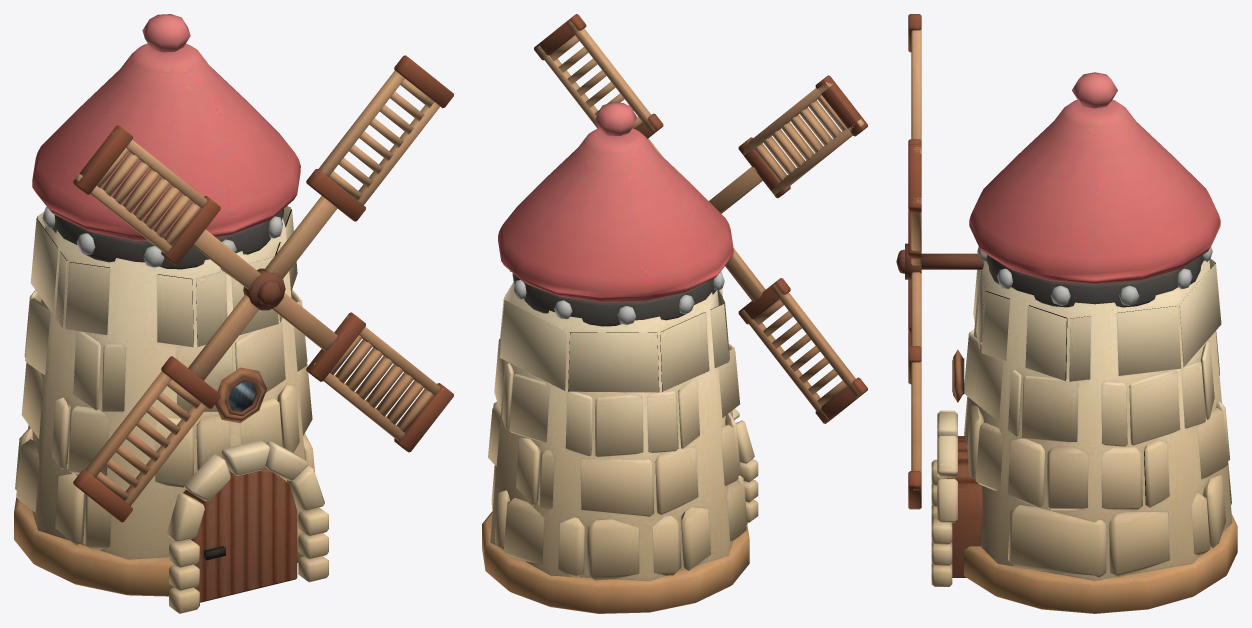
File: mill_4_mid.glb
3 views of the same model, side by side, from view 1: azimuth 30°, elevation 25°; view 2: azimuth 150°, elevation 25°; view 3: azimuth 270°, elevation 25° (orthographic). The views are drawn at different scales.
Parts seen in each view (by area): view 1: mill_4, sails; view 2: mill_4, sails; view 3: mill_4, sails.
Part boxes in pixels (<box>): mill_4: <box>14,14,328,613</box>; sails: <box>73,55,453,522</box>; mill_4: <box>482,102,758,613</box>; sails: <box>534,14,867,423</box>; mill_4: <box>921,72,1237,613</box>; sails: <box>896,14,921,509</box>.
Size of the model in its own units: 1.54 by 2.04 by 1.31.
1 material, 1 textured.
